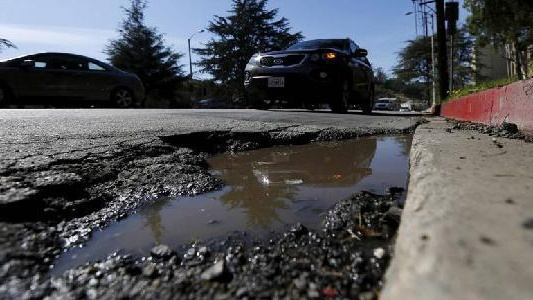pothole: (1, 124, 420, 300)
